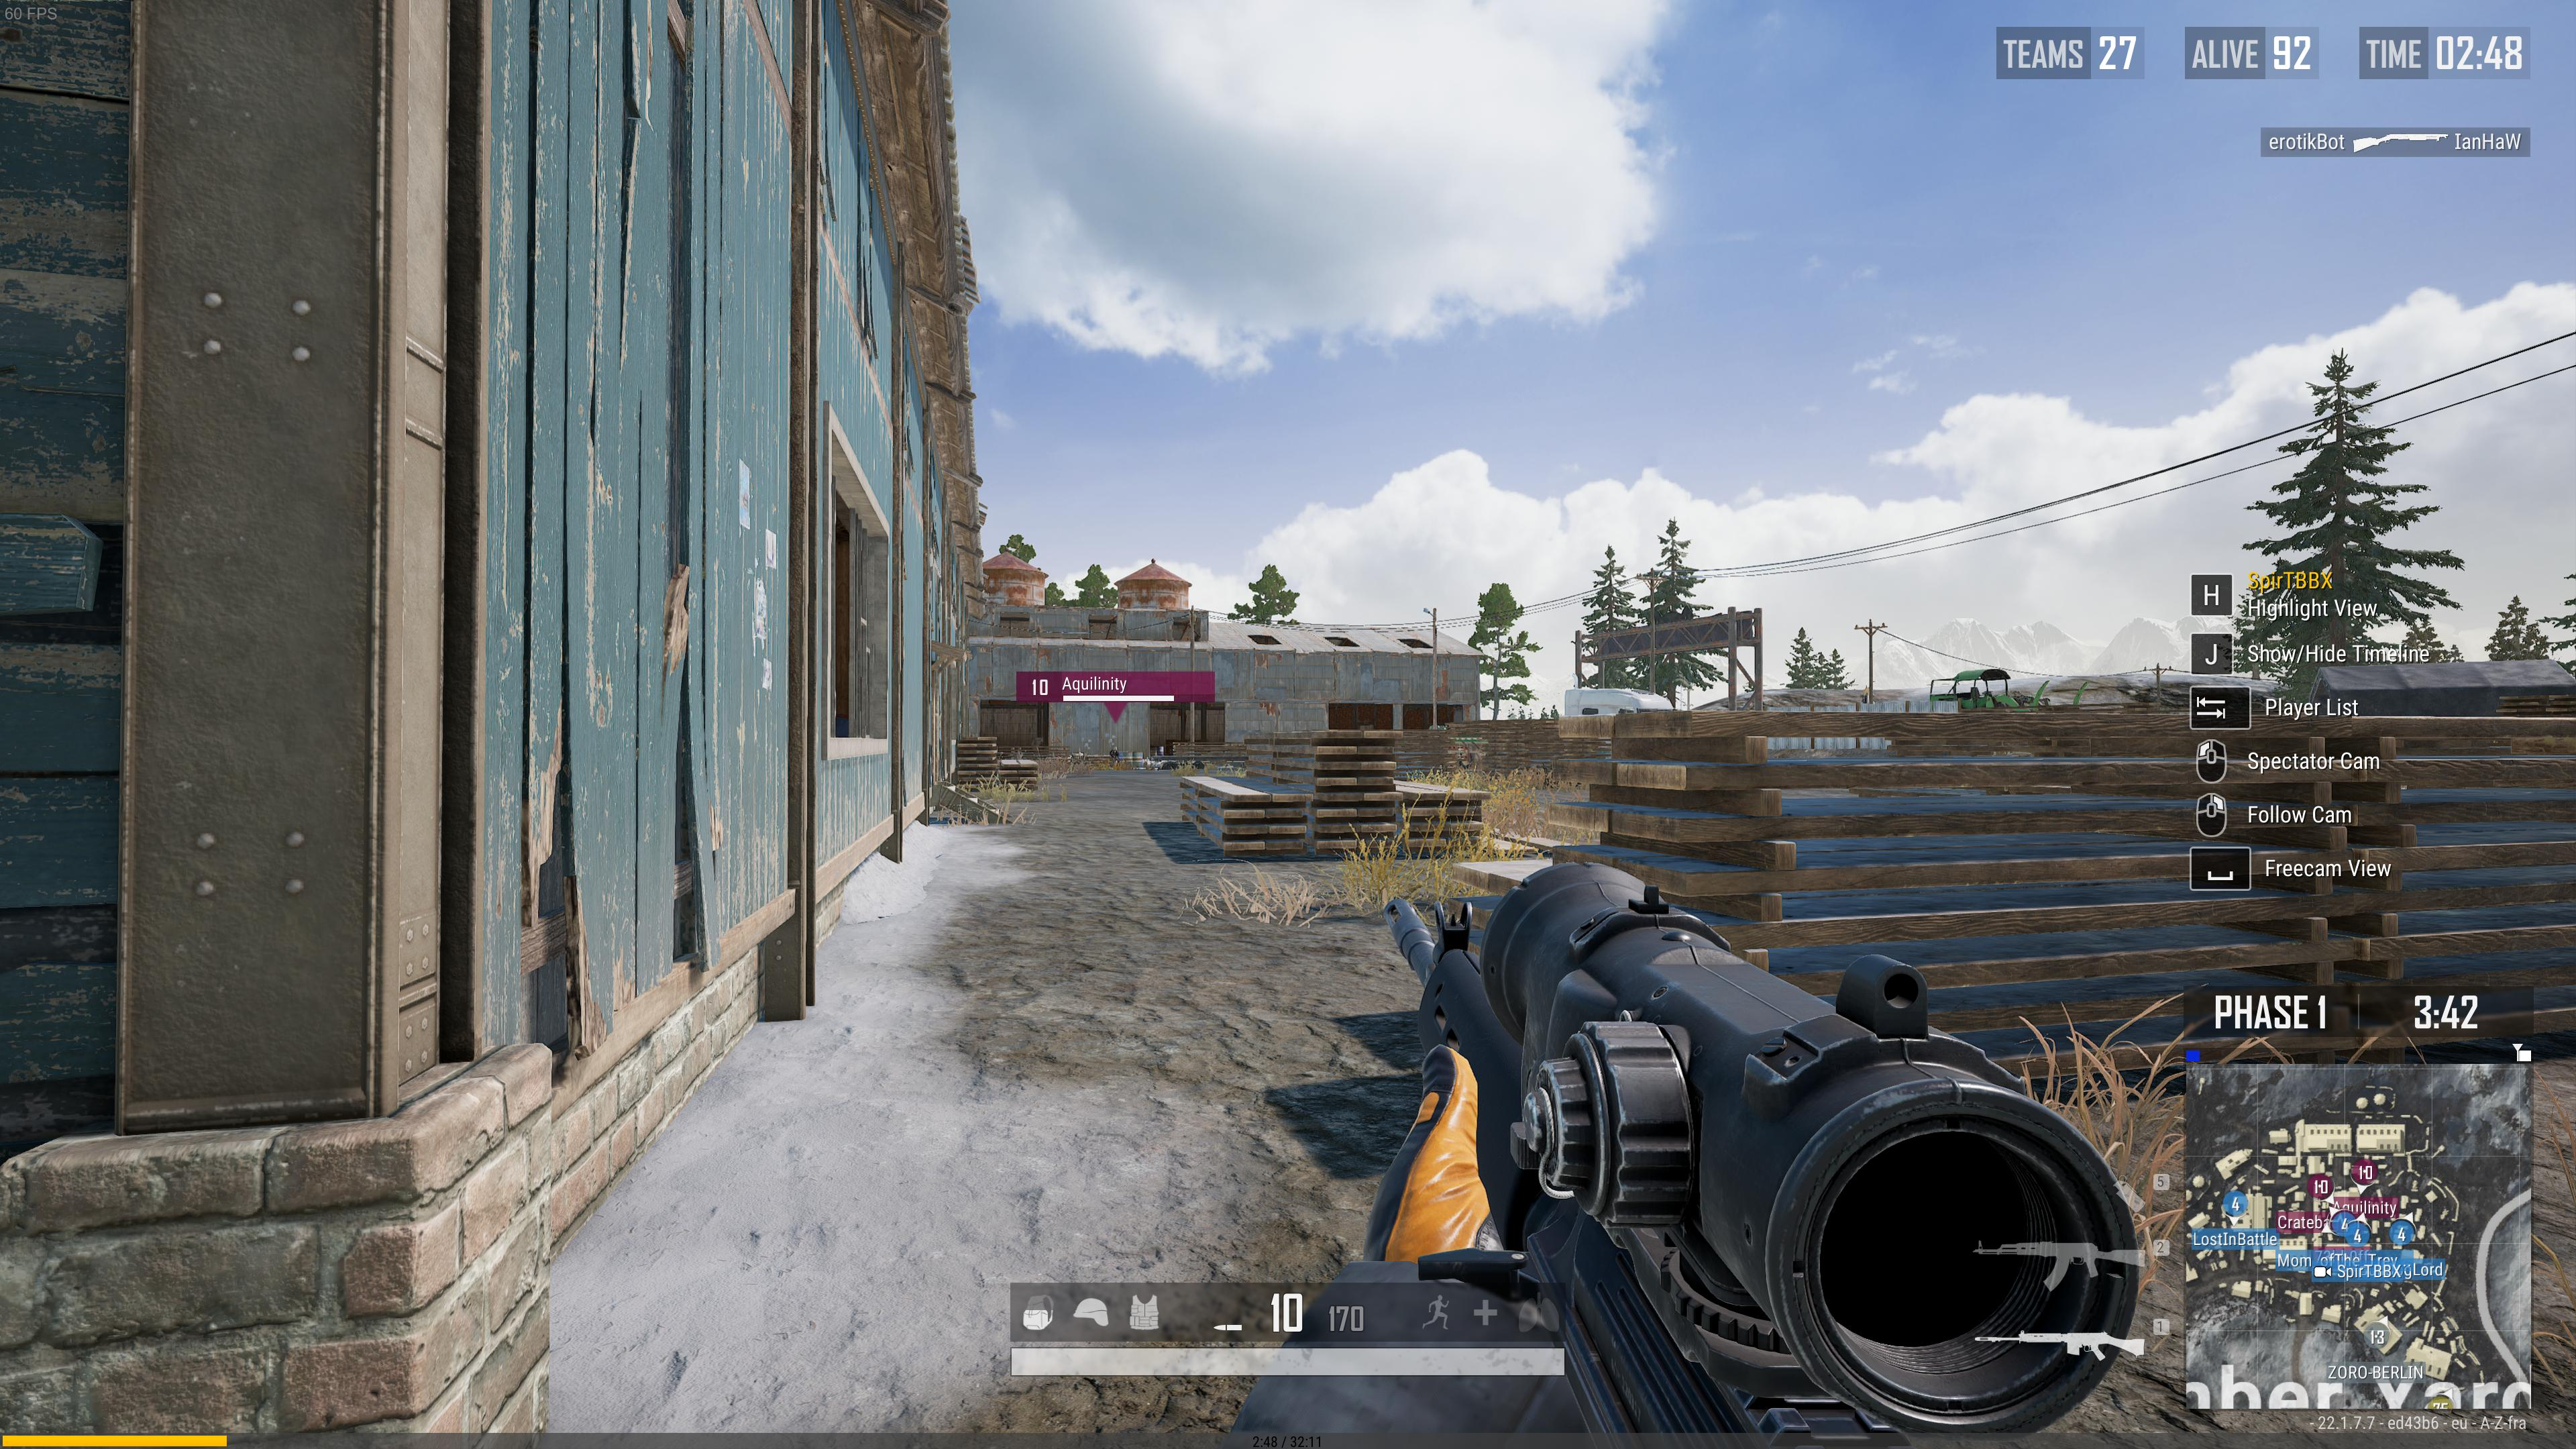enemy: (1109, 747, 1118, 763)
enemy_head: (1113, 747, 1116, 750)
